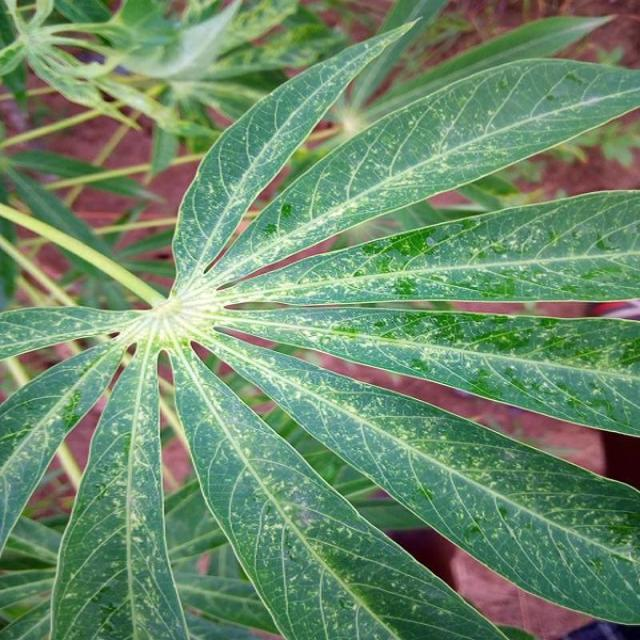cassava leaf: (0, 11, 638, 638)
